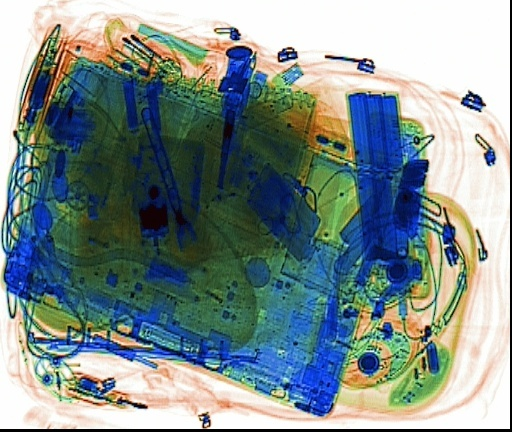powerbank: (342, 88, 438, 268)
